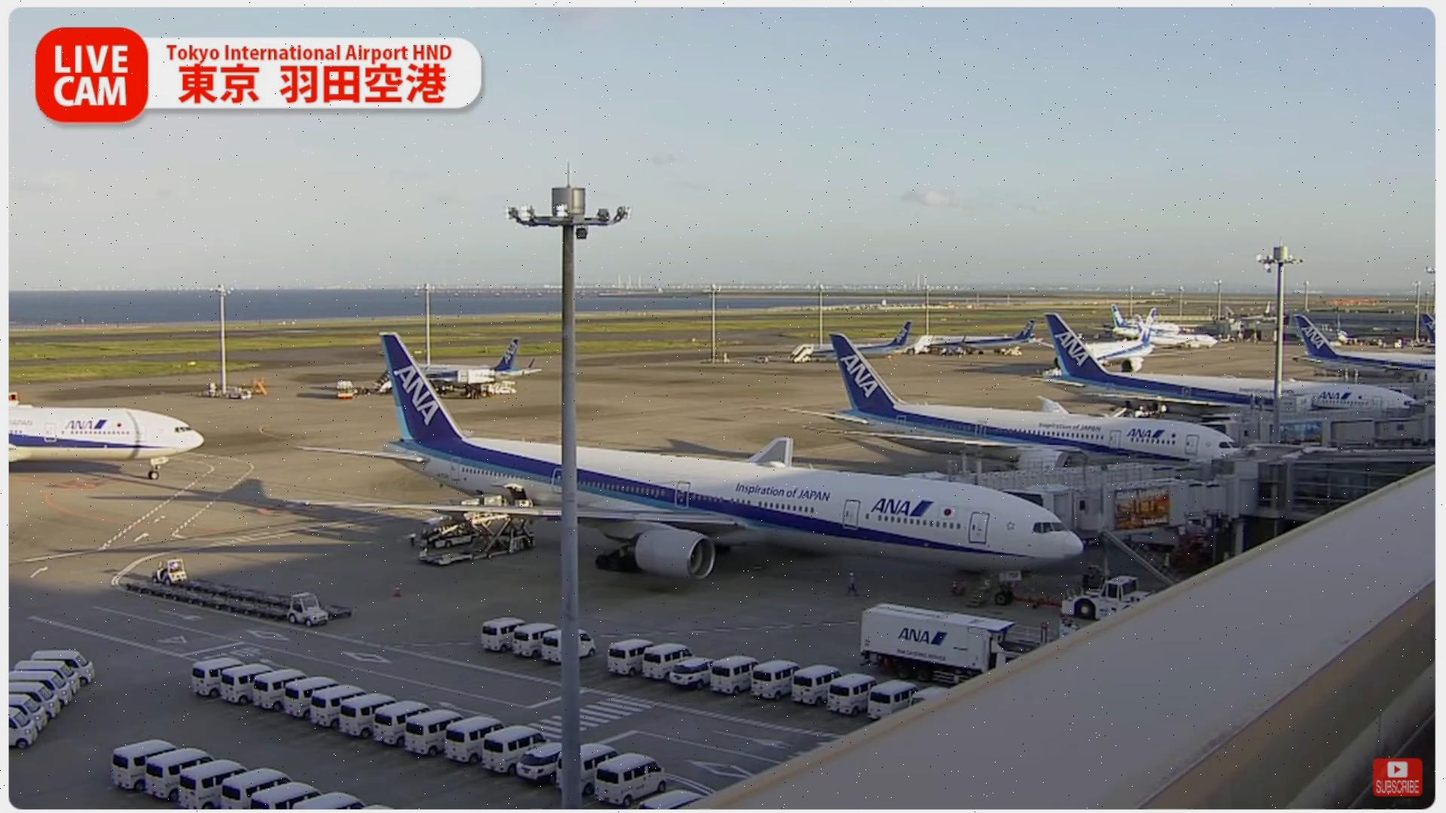APS: (1062, 575, 1155, 620)
Aerobridge: (1002, 452, 1258, 588), (892, 443, 1211, 486)
Airplane: (279, 333, 1086, 605)
Catering: (860, 603, 1040, 688)
Dolly: (172, 577, 352, 618), (126, 582, 288, 623)
JCPL: (417, 513, 538, 568), (1006, 619, 1080, 647)
Skyloader: (417, 514, 479, 550)
Tractor: (287, 591, 328, 626), (151, 557, 188, 585)
ULD: (471, 493, 502, 516), (450, 496, 479, 518)
Window: (1291, 461, 1433, 515)
